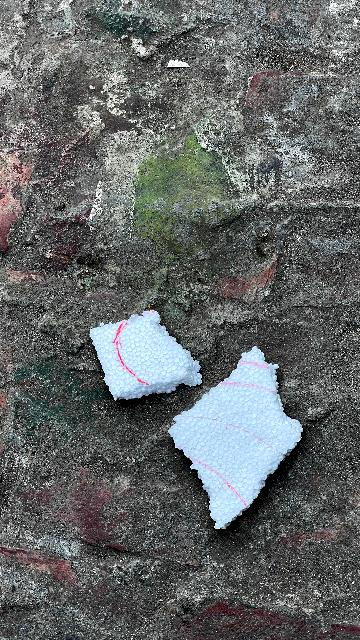cocksheet: (86, 301, 312, 535)
